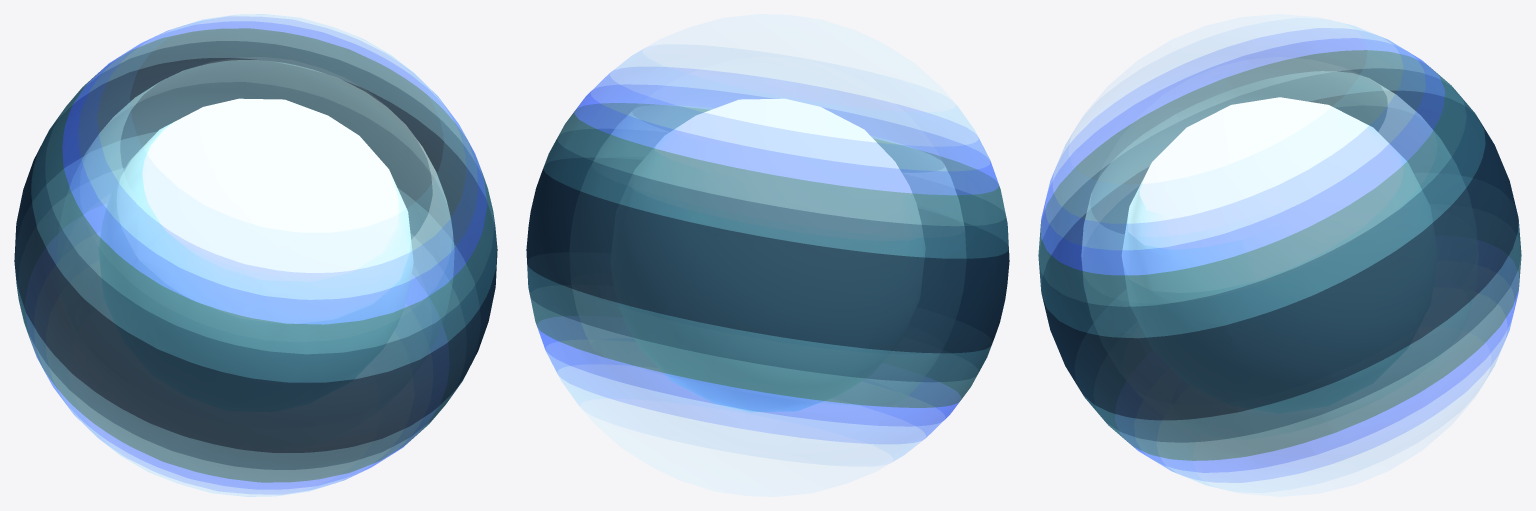
File: plasma_ball.glb
The picture shows the model from 3 angles, left to right: view 1: azimuth 30°, elevation 25°; view 2: azimuth 150°, elevation 25°; view 3: azimuth 270°, elevation 25°; orthographic projection.
Visible parts, largest first — view 1: plasma_shell, plasma_core, plasma_corona; view 2: plasma_shell, plasma_core, plasma_corona; view 3: plasma_shell, plasma_core, plasma_corona.
Boxes of the visible parts, left/top/right/bottom form: plasma_shell: left=14, top=14, right=497, bottom=496; plasma_core: left=98, top=98, right=413, bottom=382; plasma_corona: left=60, top=60, right=454, bottom=369; plasma_shell: left=526, top=44, right=1009, bottom=466; plasma_core: left=619, top=98, right=924, bottom=412; plasma_corona: left=573, top=105, right=964, bottom=405; plasma_shell: left=1038, top=18, right=1521, bottom=492; plasma_core: left=1122, top=97, right=1432, bottom=412; plasma_corona: left=1081, top=71, right=1472, bottom=439.
Size of the model in its own units: 18 by 18 by 18.
